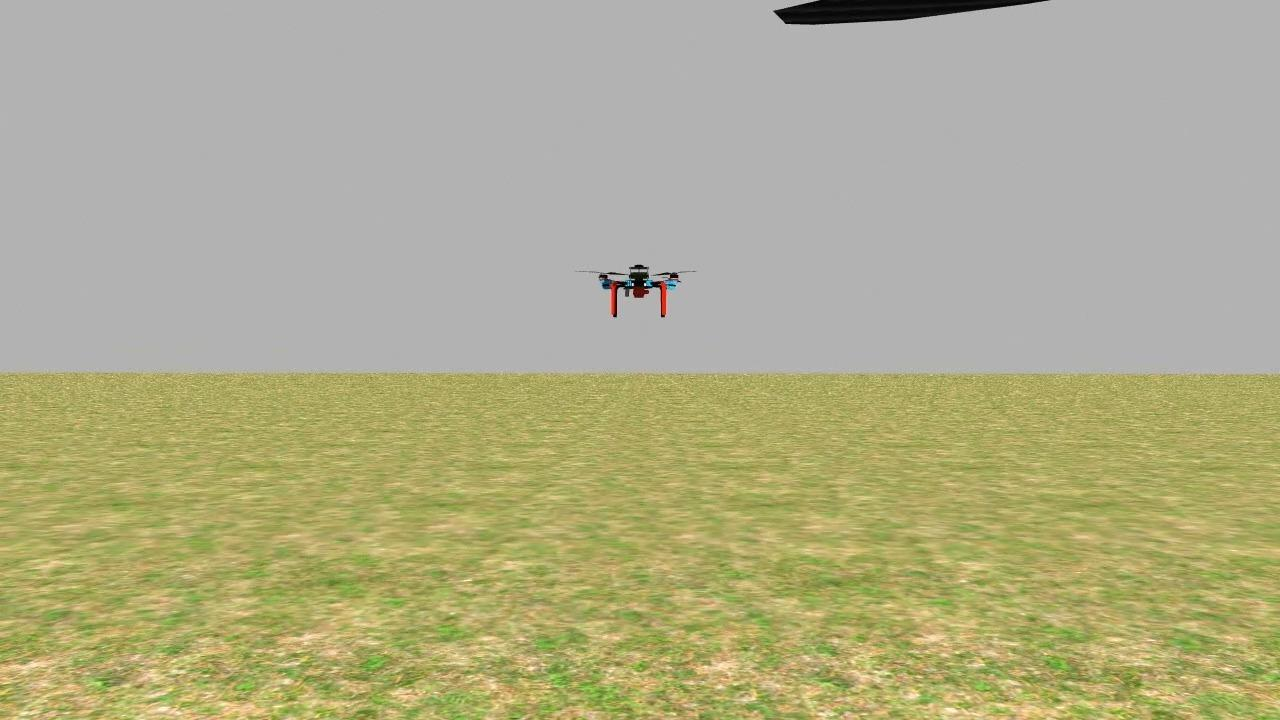UAV: (572, 254, 704, 329)
